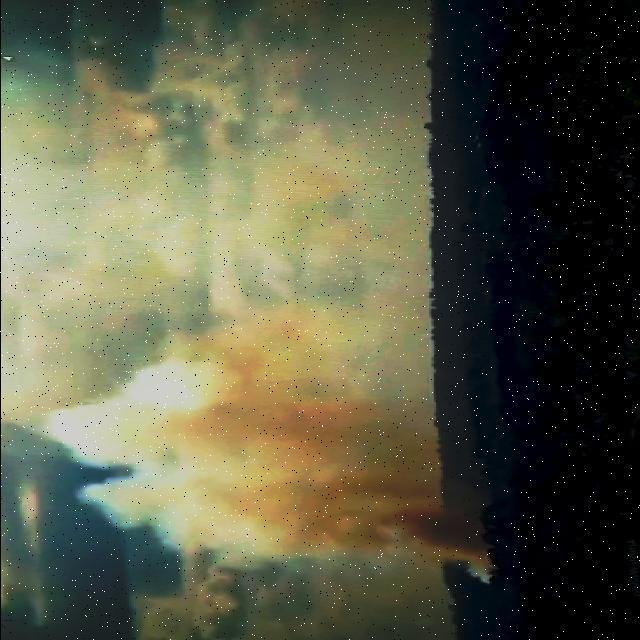asap: (36, 306, 532, 590)
